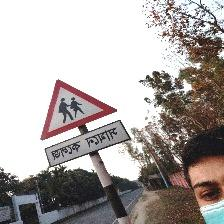College-in-front: (39, 75, 142, 187)
